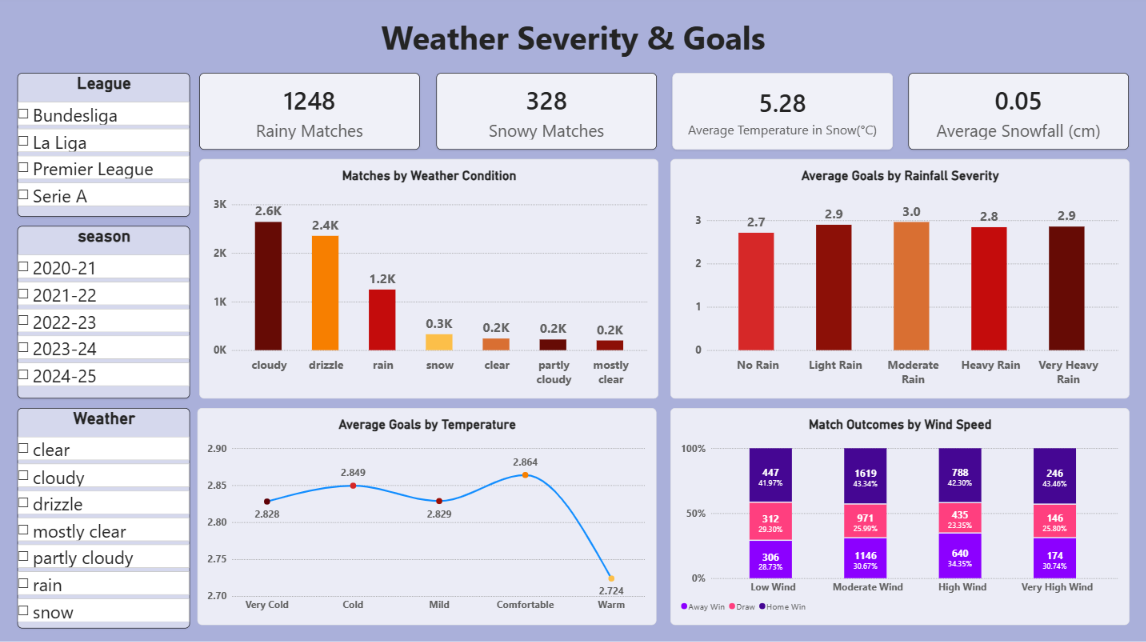

Layout of this report page (visuals, bound fields, positions):
{"tool":"powerbi","page":{"name":"Weather Severity & Goals","canvas":[1920,1080],"ordinal":2},"visuals":[{"type":"listSlicer","title":"season","fields":{"Values":["football_weather.season"]},"box":[32,384,288,288],"z":3000},{"type":"listSlicer","title":"Weather","fields":{"Values":["football_weather.weather_label"]},"box":[32,688,288,368],"z":4000},{"type":"listSlicer","title":"League","fields":{"Values":["football_weather.League Name"]},"box":[32,128,288,240],"z":5000},{"type":"textbox","box":[32,32,1856,80],"z":6000},{"type":"card","fields":{"Values":["Table.Snowy Matches"]},"box":[730.7,128,368,128],"z":9001},{"type":"card","fields":{"Values":["Table.Rainy Matches"]},"box":[336,128,368,128],"z":9002},{"type":"card","fields":{"Values":["Table.Average Snowfall (cm)"]},"box":[1520,128,368,128],"z":9003},{"type":"card","fields":{"Values":["Table.Average Temperature in Snow(°C)"]},"box":[1125.3,128,368,128],"z":9004},{"type":"clusteredColumnChart","title":"Average Goals by Rainfall Severity","fields":{"Category":["football_weather.Rainfall Category"],"Y":["Table.Average Goals per Match"]},"box":[1122,272,766,400],"z":9005},{"type":"clusteredColumnChart","title":"Matches by Weather Condition","fields":{"Category":["football_weather.weather_label"],"Y":["Table.Total Matches"]},"box":[336,272,766,400],"z":9006},{"type":"lineChart","title":"Average Goals by Temperature","fields":{"Category":["football_weather.Temperature Category"],"Y":["Table.Average Goals per Match"]},"box":[332,688,766,362],"z":9007},{"type":"hundredPercentStackedColumnChart","title":"Match Outcomes by Wind Speed","fields":{"Category":["football_weather.Wind Category"],"Series":["football_weather.Match Result"],"Y":["Table.Total Matches"]},"box":[1122,688,766,362],"z":9008}]}

Visuals, with their boxes in screenshot pixels (x1, y1, x2, y2), scaled from the page's 1920x1080 canvas onto the 1146x642 screenshot:
"season" listSlicer: <box>19,228,191,399</box>
"Weather" listSlicer: <box>19,409,191,628</box>
"League" listSlicer: <box>19,76,191,219</box>
textbox: <box>19,19,1127,67</box>
card - Table.Snowy Matches: <box>436,76,656,152</box>
card - Table.Rainy Matches: <box>201,76,420,152</box>
card - Table.Average Snowfall (cm): <box>907,76,1127,152</box>
card - Table.Average Temperature in Snow(°C): <box>672,76,891,152</box>
"Average Goals by Rainfall Severity" clusteredColumnChart: <box>670,162,1127,399</box>
"Matches by Weather Condition" clusteredColumnChart: <box>201,162,658,399</box>
"Average Goals by Temperature" lineChart: <box>198,409,655,624</box>
"Match Outcomes by Wind Speed" hundredPercentStackedColumnChart: <box>670,409,1127,624</box>
